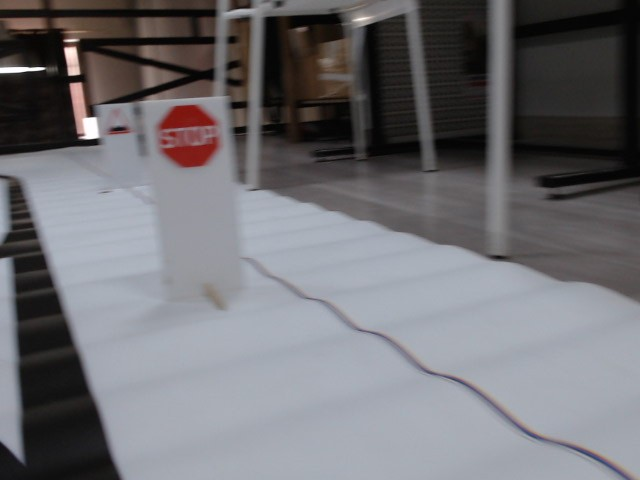Stop: (156, 105, 223, 166)
